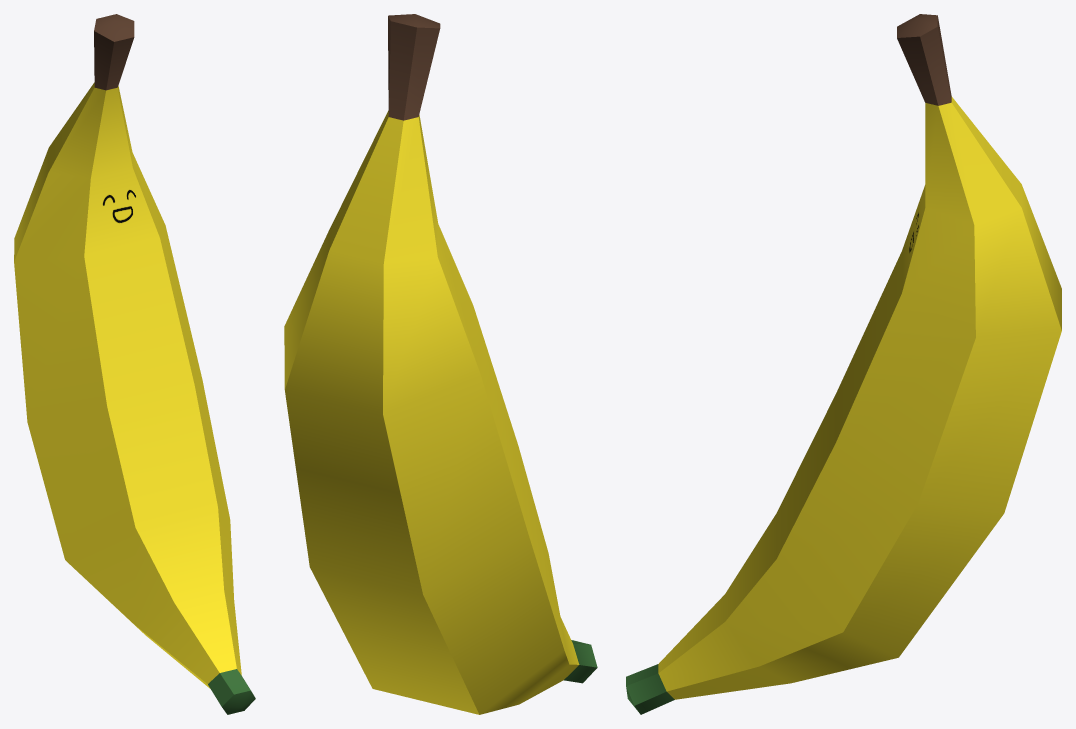
File: Banana.fbx
The picture shows the model from 3 angles, left to right: view 1: azimuth 30°, elevation 25°; view 2: azimuth 150°, elevation 25°; view 3: azimuth 270°, elevation 25°; orthographic projection. The views are drawn at different scales.
Visible parts, largest first — view 1: bananaSimpleTextured; view 2: bananaSimpleTextured; view 3: bananaSimpleTextured.
Part boxes in pixels (box(x1,y1,x2,y2)): bananaSimpleTextured: box(14, 14, 255, 714); bananaSimpleTextured: box(284, 14, 597, 714); bananaSimpleTextured: box(626, 14, 1061, 714).
Size of the model in its own units: 2.45 by 8.06 by 4.61.
